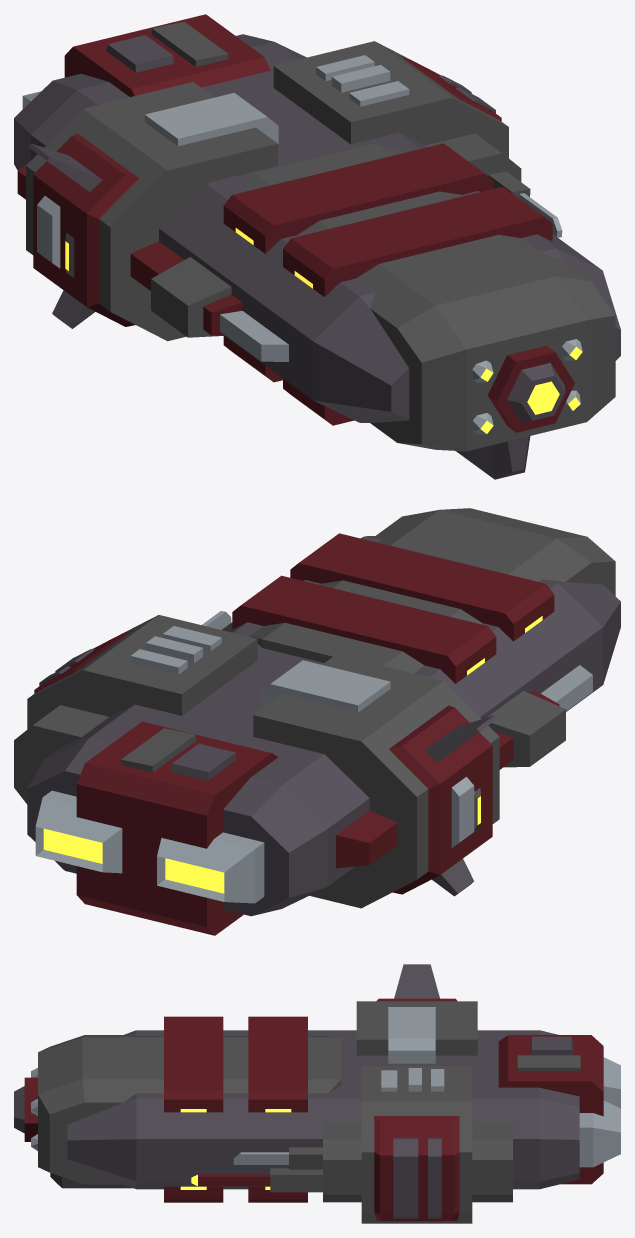
Rendered from 666_ship_light_arbalest(SLA).glb.
3 renders of one model, top to bottom at view 1: azimuth 30°, elevation 25°; view 2: azimuth 150°, elevation 25°; view 3: azimuth 270°, elevation 25°, orthographic. The views are drawn at different scales.
Parts seen in each view (by area): view 1: 06_ship_light_arbalest; view 2: 06_ship_light_arbalest; view 3: 06_ship_light_arbalest.
Boxes of the visible parts, box(x1,y1,x2,y2) form: 06_ship_light_arbalest: box(14, 14, 620, 479); 06_ship_light_arbalest: box(14, 508, 620, 935); 06_ship_light_arbalest: box(14, 964, 620, 1223).
Bounding box in the file's own units: 0.5999 × 0.2569 × 0.9989.
